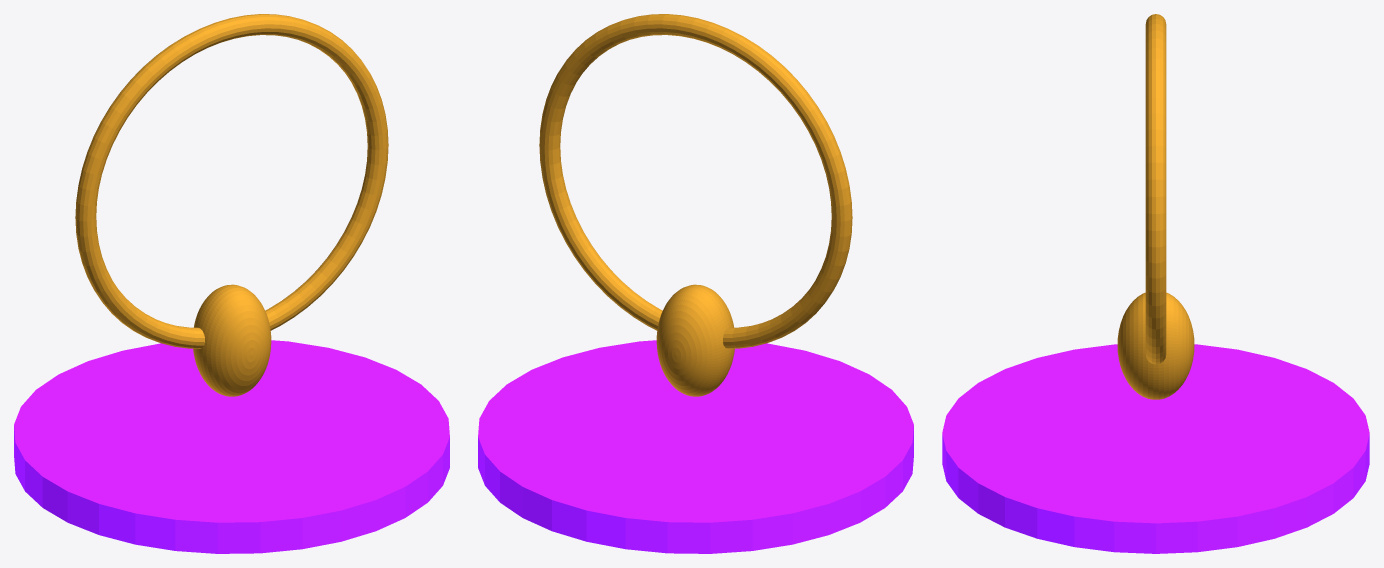
The model's file is modelling_necklace_display.dae.
3 renders of one model, left to right at view 1: azimuth 30°, elevation 25°; view 2: azimuth 150°, elevation 25°; view 3: azimuth 270°, elevation 25°, orthographic. The views are drawn at different scales.
Visible parts, largest first — view 1: 05_14_Popular_Modelling_Necklace_Display_ROOT_base, 05_14_Popular_Modelling_Necklace_Display_part_01, 05_14_Popular_Modelling_Necklace_Display_part_02; view 2: 05_14_Popular_Modelling_Necklace_Display_ROOT_base, 05_14_Popular_Modelling_Necklace_Display_part_01, 05_14_Popular_Modelling_Necklace_Display_part_02; view 3: 05_14_Popular_Modelling_Necklace_Display_ROOT_base, 05_14_Popular_Modelling_Necklace_Display_part_01, 05_14_Popular_Modelling_Necklace_Display_part_02.
Part boxes in pixels (box(x1,y1,x2,y2)): 05_14_Popular_Modelling_Necklace_Display_ROOT_base: box(14, 340, 449, 553); 05_14_Popular_Modelling_Necklace_Display_part_01: box(75, 14, 388, 348); 05_14_Popular_Modelling_Necklace_Display_part_02: box(193, 284, 271, 396); 05_14_Popular_Modelling_Necklace_Display_ROOT_base: box(478, 340, 913, 553); 05_14_Popular_Modelling_Necklace_Display_part_01: box(539, 14, 852, 348); 05_14_Popular_Modelling_Necklace_Display_part_02: box(656, 284, 734, 396); 05_14_Popular_Modelling_Necklace_Display_ROOT_base: box(942, 344, 1369, 553); 05_14_Popular_Modelling_Necklace_Display_part_01: box(1145, 14, 1166, 364); 05_14_Popular_Modelling_Necklace_Display_part_02: box(1117, 292, 1194, 399).
Bounding box in the file's own units: 0.76 × 0.85 × 0.76.
